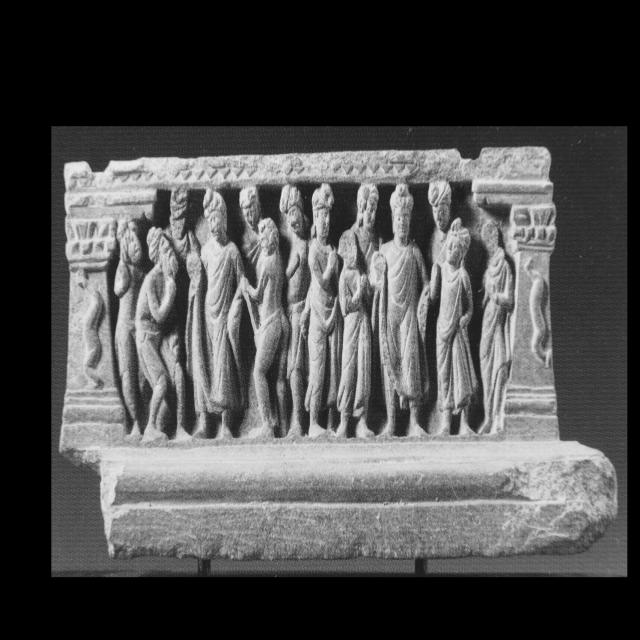buddha-standing: (371, 184, 429, 438)
